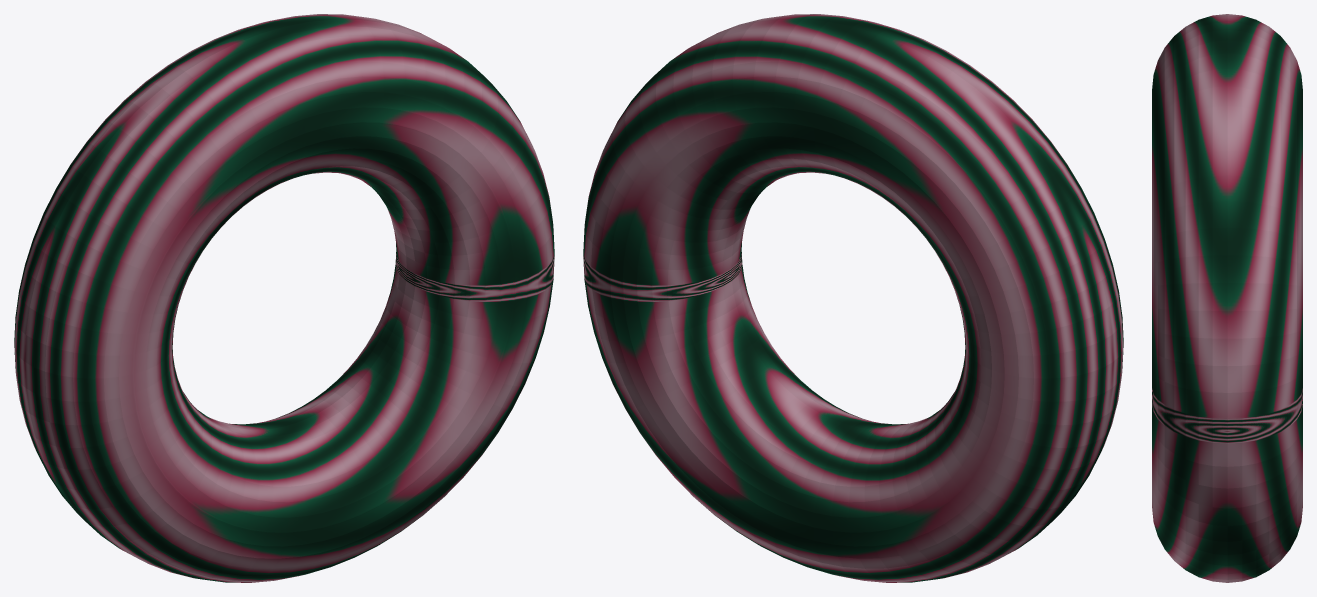
File: torus-rose-c2.glb
3 renders of one model, left to right at view 1: azimuth 30°, elevation 25°; view 2: azimuth 150°, elevation 25°; view 3: azimuth 270°, elevation 25°, orthographic. The views are drawn at different scales.
Parts seen in each view (by area): view 1: world; view 2: world; view 3: world.
Part boxes in pixels (x1=…): world: x1=14, y1=14, x2=554, y2=582; world: x1=583, y1=14, x2=1123, y2=582; world: x1=1152, y1=14, x2=1302, y2=582.
Bounding box in the file's own units: 1.36 × 1.36 × 0.36.
Materials: 1 (1 with a texture image).
